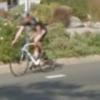bicycles: (8, 36, 58, 77)
